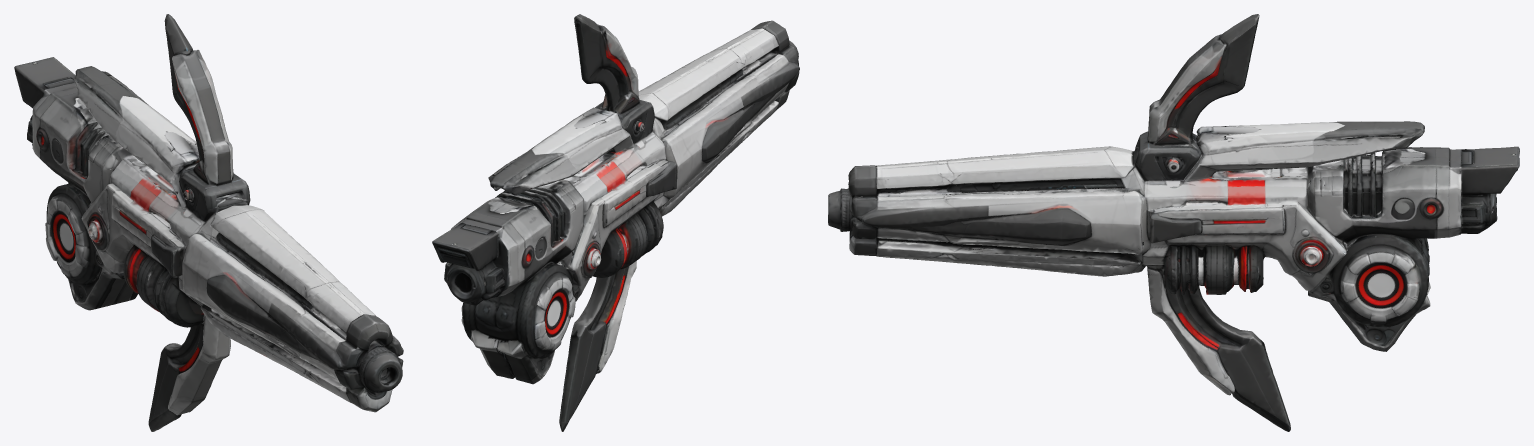
Rendered from Justyna_Weapon.fbx.
3 renders of one model, left to right at view 1: azimuth 30°, elevation 25°; view 2: azimuth 150°, elevation 25°; view 3: azimuth 270°, elevation 25°, orthographic. The views are drawn at different scales.
Visible parts, largest first — view 1: texture_mapping; view 2: texture_mapping; view 3: texture_mapping.
Boxes of the visible parts, x1,y1,x2,y2 form: texture_mapping: (14, 14, 403, 431); texture_mapping: (432, 14, 799, 431); texture_mapping: (828, 14, 1519, 431).
Bounding box in the file's own units: 0.165 × 1 × 0.6669.
1 material, 1 textured.
